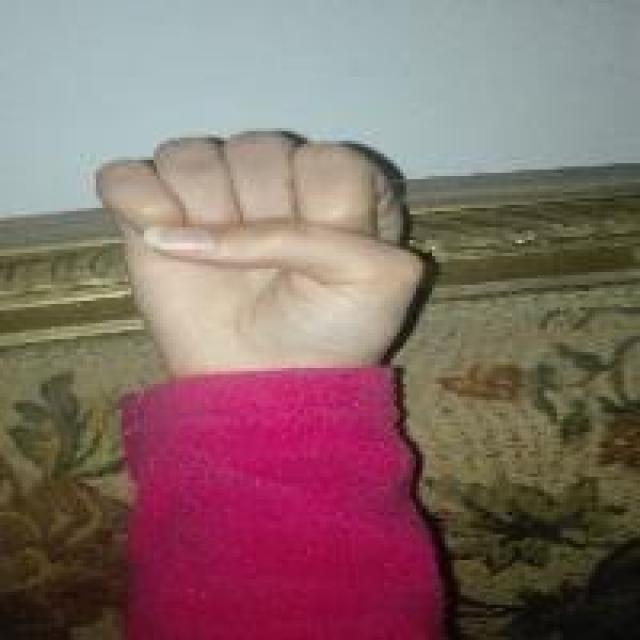E: (87, 120, 436, 382)
